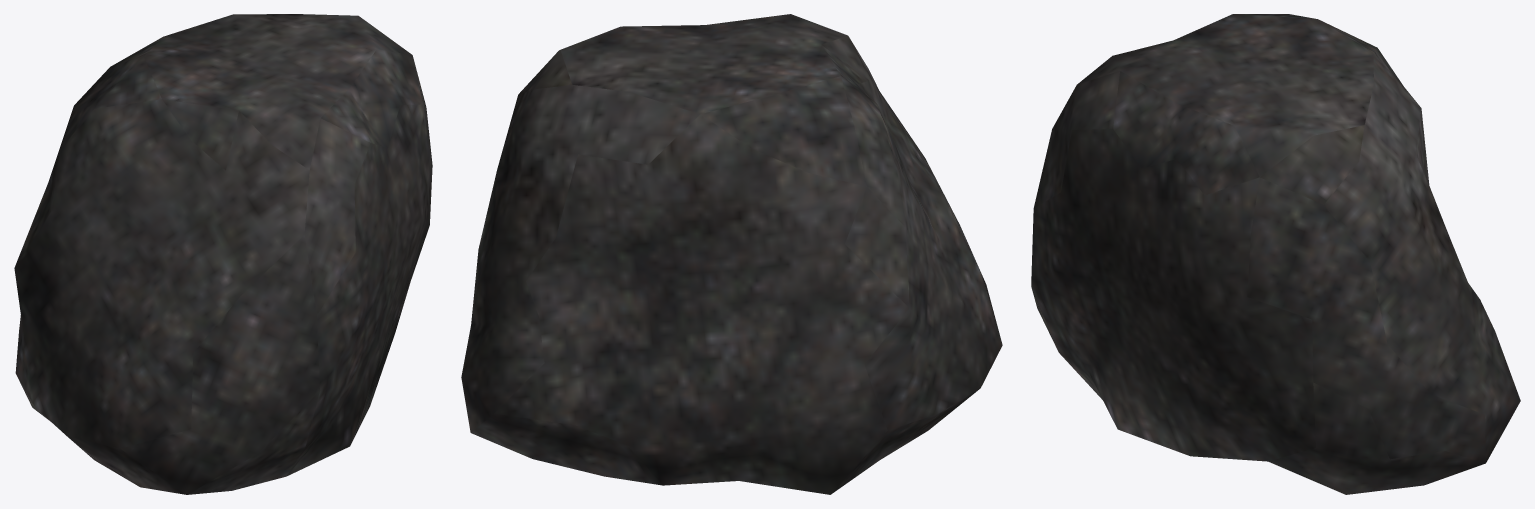
The model's file is rock 7.glb.
3 views of the same model, side by side, from view 1: azimuth 30°, elevation 25°; view 2: azimuth 150°, elevation 25°; view 3: azimuth 270°, elevation 25° (orthographic). The views are drawn at different scales.
Visible parts, largest first — view 1: AR07; view 2: AR07; view 3: AR07.
Boxes of the visible parts, bbox=[...] form: AR07: bbox=[14, 14, 432, 494]; AR07: bbox=[461, 14, 1002, 494]; AR07: bbox=[1031, 14, 1520, 494].
Size of the model in its own units: 9.59 by 8.1 by 9.79.
Materials: 1 (1 with a texture image).
